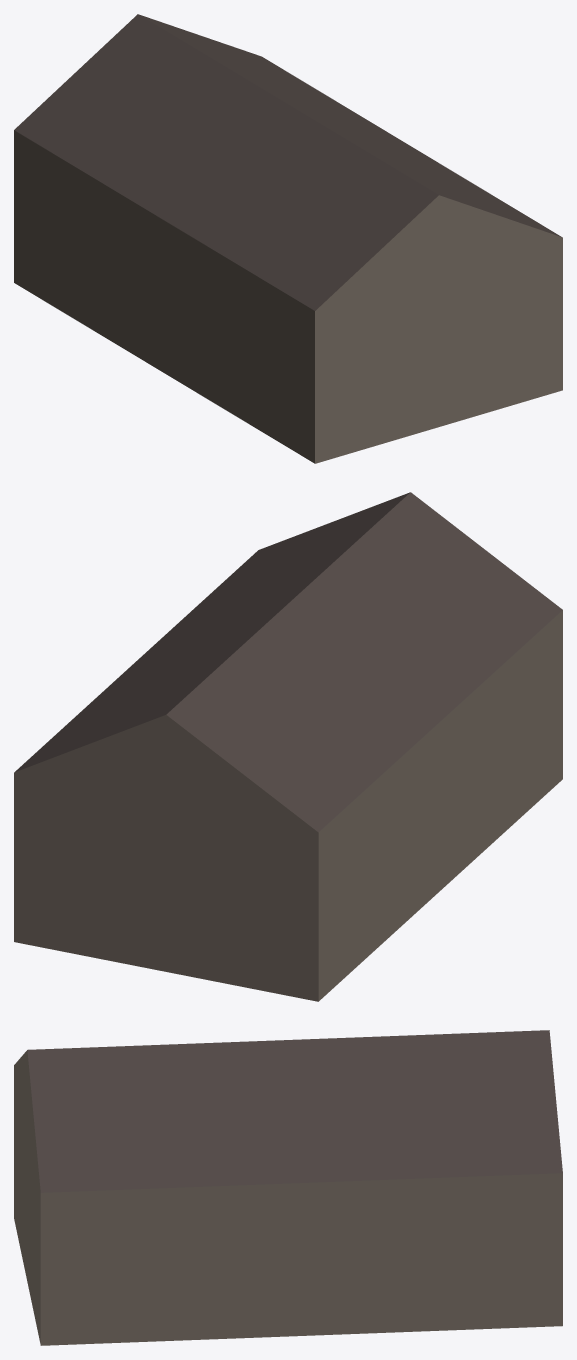
The picture shows the model from 3 angles, top to bottom: view 1: azimuth 30°, elevation 25°; view 2: azimuth 150°, elevation 25°; view 3: azimuth 270°, elevation 25°; orthographic projection. The views are drawn at different scales.
Visible parts, largest first — view 1: HP-w859424222; view 2: HP-w859424222; view 3: HP-w859424222.
Part boxes in pixels (x1,y1,x2,y2): HP-w859424222: (14, 14, 562, 463); HP-w859424222: (14, 492, 562, 1001); HP-w859424222: (14, 1030, 562, 1345).
Size of the model in its own units: 12.4 by 9.11 by 19.52.
